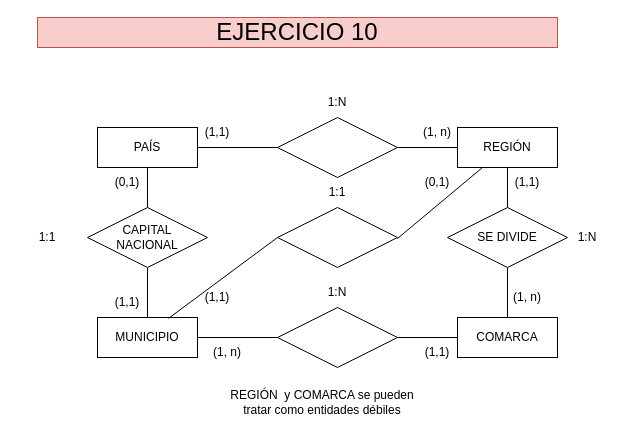
The diagram is 634 pixels wide and 435 high, and some of its shapes have lost their labels. Each missing label, with the centre of its shape:
CAPITAL REGIONAL: pixel 337 237
FORMADA POR: pixel 337 337
SE ORGANIZA: pixel 337 147
